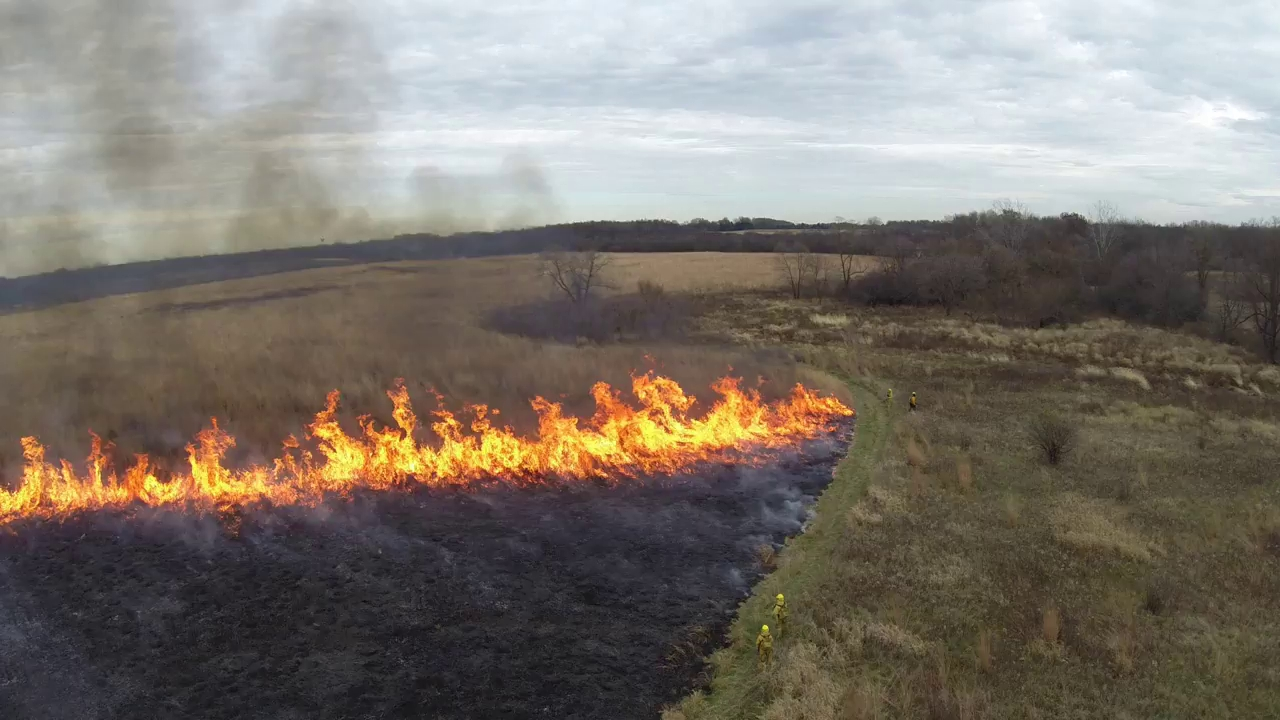forest_fire: (0, 371, 853, 523)
